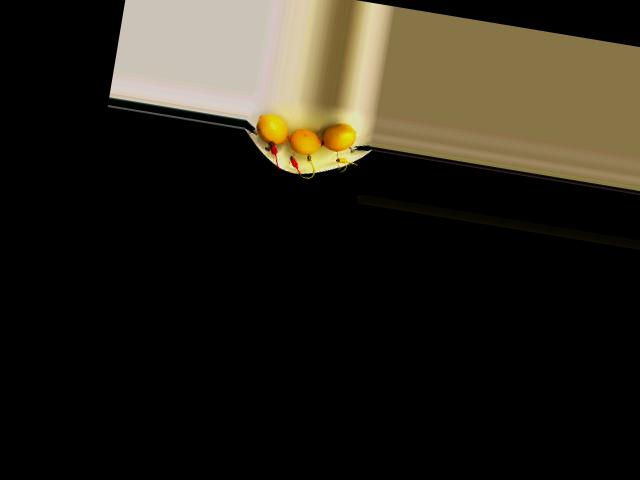lemon: (253, 115, 290, 152)
